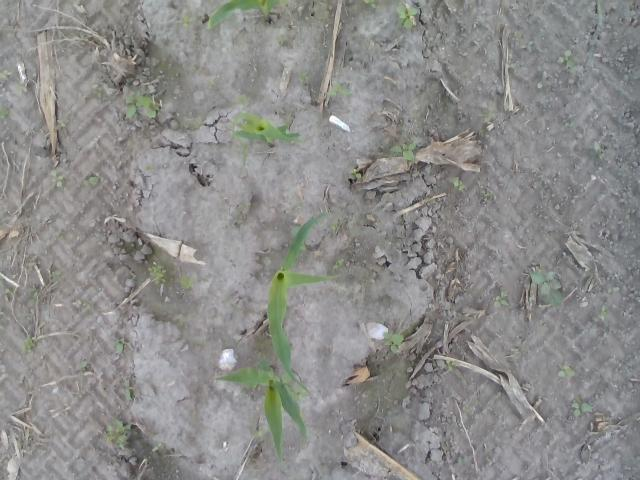Maize: (268, 211, 339, 398), (214, 356, 308, 465), (229, 110, 302, 147), (208, 0, 284, 31)
Weeds: (531, 270, 565, 304), (126, 90, 160, 118), (392, 0, 418, 32), (104, 419, 131, 449), (384, 142, 418, 162), (144, 260, 169, 284), (556, 48, 577, 74), (382, 330, 404, 352), (570, 398, 592, 417), (328, 81, 352, 97), (175, 270, 193, 288), (50, 170, 64, 192), (590, 141, 606, 160), (175, 15, 192, 32), (111, 338, 128, 354), (494, 290, 509, 308), (122, 380, 135, 400), (450, 176, 466, 192), (558, 364, 576, 378), (20, 334, 34, 352), (80, 176, 100, 188), (190, 116, 206, 130), (28, 287, 40, 304), (232, 95, 250, 106), (253, 424, 266, 438), (559, 118, 576, 128), (623, 206, 635, 220), (274, 34, 288, 46), (442, 359, 457, 370), (0, 105, 10, 120), (1, 70, 16, 80), (360, 0, 378, 8), (48, 271, 64, 280), (56, 118, 70, 128), (297, 72, 311, 82), (480, 190, 496, 198), (351, 166, 361, 178), (152, 442, 164, 452), (16, 82, 24, 96), (600, 304, 608, 318), (4, 288, 12, 302), (206, 79, 216, 90), (334, 255, 344, 266), (143, 163, 155, 172), (93, 88, 103, 98), (455, 456, 465, 465), (462, 401, 470, 412), (79, 360, 90, 368), (608, 287, 620, 294), (330, 221, 337, 231)
